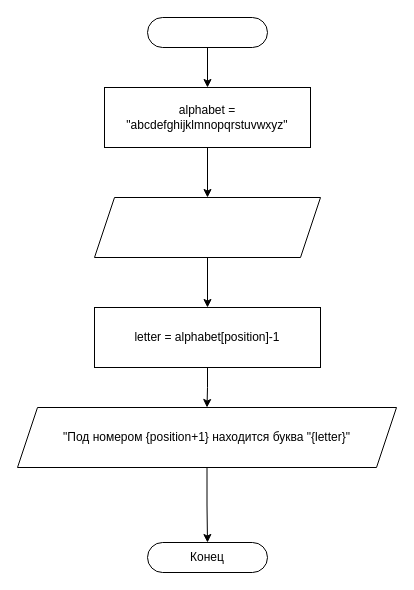
Some shapes in this 414 by 590 pixel diagram are drawn without their labels. The centre of each missing label's shape, as x and y in pixels:
Введите порядковый номер буквы position =: [207,227]
Начало: [207,32]
